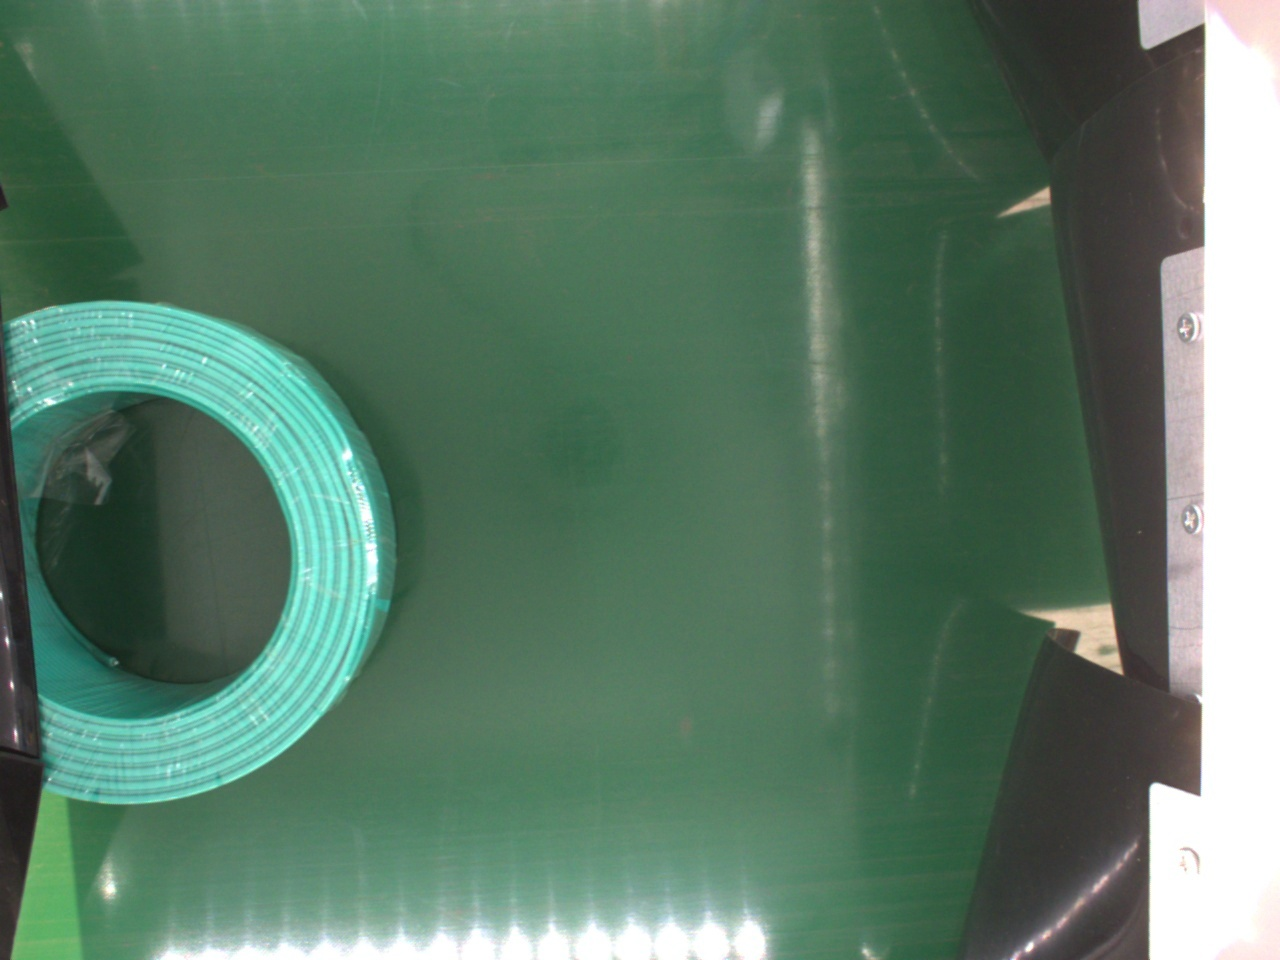green: (9, 301, 394, 809)
